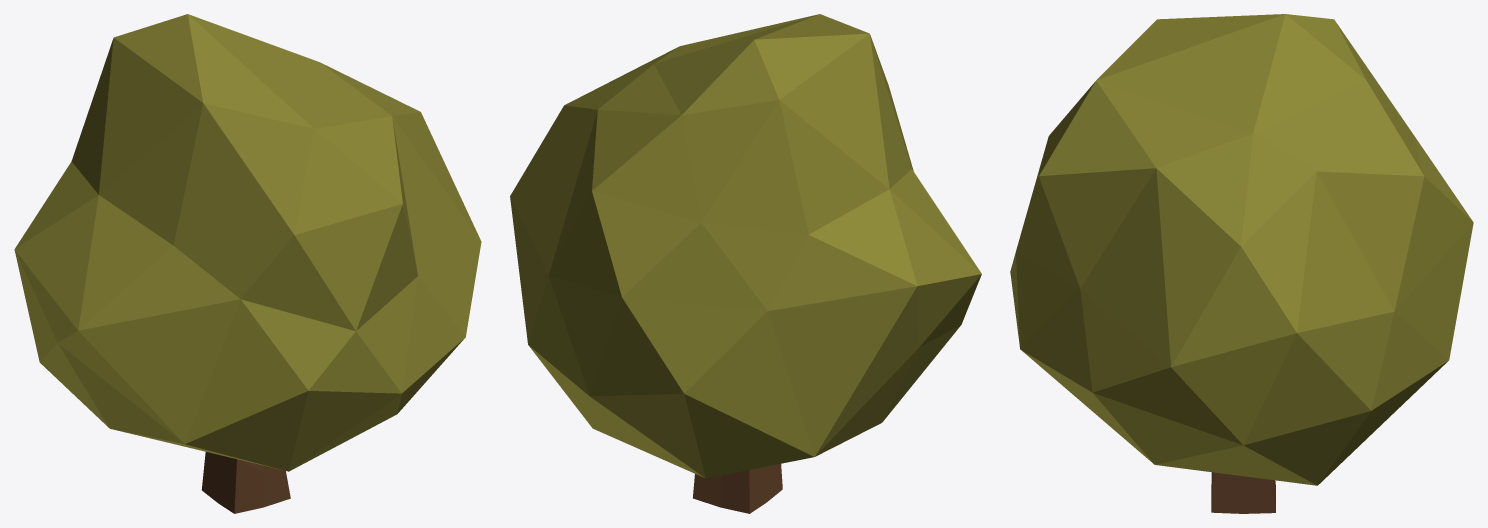
Rendered from Tree_3_Yellow.fbx.
The picture shows the model from 3 angles, left to right: view 1: azimuth 30°, elevation 25°; view 2: azimuth 150°, elevation 25°; view 3: azimuth 270°, elevation 25°; orthographic projection. The views are drawn at different scales.
Visible parts, largest first — view 1: Tree_3_Yellow_Part_1, Tree_3_Yellow_Part_2; view 2: Tree_3_Yellow_Part_1, Tree_3_Yellow_Part_2; view 3: Tree_3_Yellow_Part_1, Tree_3_Yellow_Part_2.
Part boxes in pixels (left/top/right/bottom): Tree_3_Yellow_Part_1: left=14, top=14, right=481, bottom=471; Tree_3_Yellow_Part_2: left=201, top=452, right=290, bottom=513; Tree_3_Yellow_Part_1: left=510, top=14, right=981, bottom=478; Tree_3_Yellow_Part_2: left=693, top=464, right=782, bottom=513; Tree_3_Yellow_Part_1: left=1010, top=14, right=1473, bottom=485; Tree_3_Yellow_Part_2: left=1211, top=472, right=1275, bottom=513.
Size of the model in its own units: 714 by 807 by 720.
